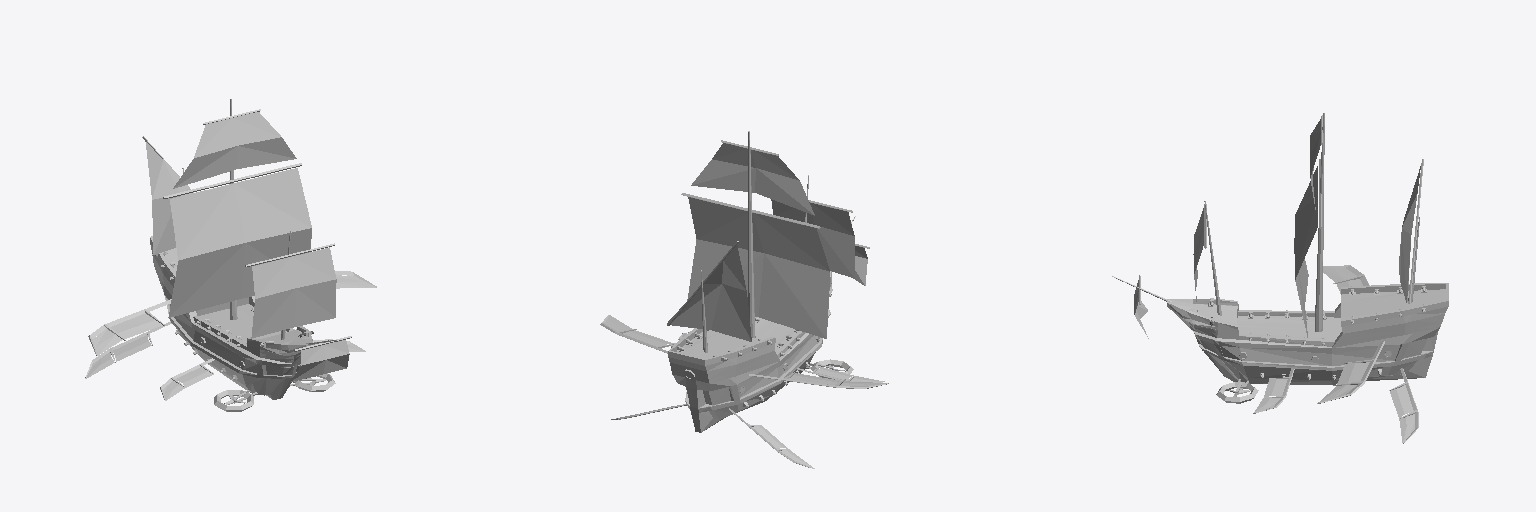
Rendered from ship.obj.
3 views of the same model, side by side, from view 1: azimuth 30°, elevation 25°; view 2: azimuth 150°, elevation 25°; view 3: azimuth 270°, elevation 25° (orthographic).
Visible parts, largest first — view 1: pCube13.031_Untitled.120; view 2: pCube13.031_Untitled.120; view 3: pCube13.031_Untitled.120.
Part boxes in pixels (bbox=[...]): pCube13.031_Untitled.120: bbox=[85, 99, 376, 411]; pCube13.031_Untitled.120: bbox=[600, 131, 888, 468]; pCube13.031_Untitled.120: bbox=[1112, 113, 1448, 443].
Size of the model in its own units: 9.02 by 8.71 by 9.41.